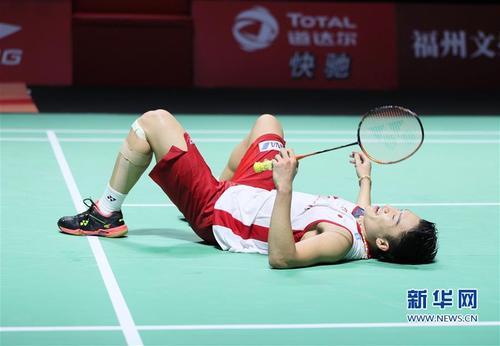down: (47, 99, 454, 277)
